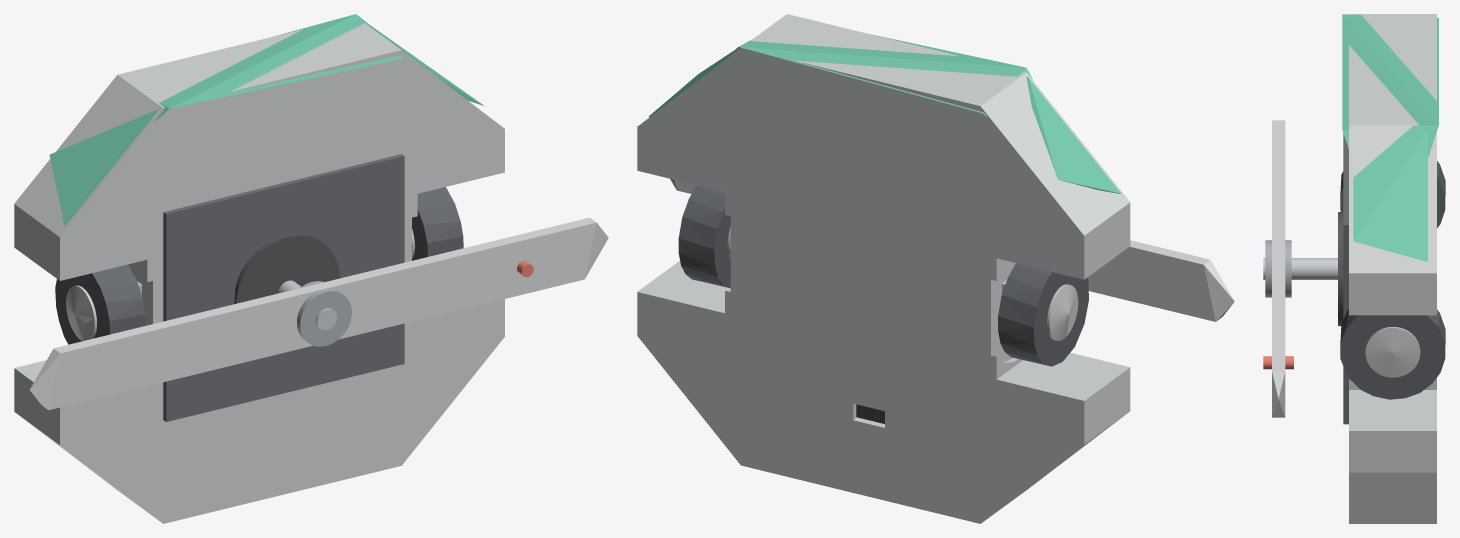
Rendered from vampire.glb.
The picture shows the model from 3 angles, left to right: view 1: azimuth 30°, elevation 25°; view 2: azimuth 150°, elevation 25°; view 3: azimuth 270°, elevation 25°; orthographic projection. The views are drawn at different scales.
Visible parts, largest first — view 1: chassis, deck, weapon, green_wall, hub, wheel_r0, wheel_l0, dt_hubw_weapon, dt_hub_wheel_r0; view 2: chassis, green_wall, weapon, wheel_r0, wheel_l0, dt_hub_wheel_r0; view 3: chassis, green_wall, wheel_l0, weapon, dt_hub_wheel_l0, deck, dt_shaft_weapon, dt_hubw_weapon, hub, wheel_r0, lock_pin.
Boxes of the visible parts, left/top/right/bottom form: chassis: left=14, top=23, right=504, bottom=523; deck: left=163, top=154, right=404, bottom=421; weapon: left=30, top=217, right=608, bottom=410; green_wall: left=49, top=14, right=484, bottom=225; hub: left=234, top=233, right=339, bottom=303; wheel_r0: left=55, top=264, right=145, bottom=344; wheel_l0: left=412, top=187, right=463, bottom=260; dt_hubw_weapon: left=297, top=281, right=351, bottom=346; dt_hub_wheel_r0: left=66, top=285, right=96, bottom=340; chassis: left=637, top=14, right=1130, bottom=523; green_wall: left=648, top=34, right=1121, bottom=193; weapon: left=670, top=179, right=1234, bottom=321; wheel_r0: left=998, top=263, right=1088, bottom=366; wheel_l0: left=678, top=185, right=730, bottom=288; dt_hub_wheel_r0: left=1047, top=284, right=1078, bottom=340; chassis: left=1349, top=14, right=1436, bottom=523; green_wall: left=1342, top=14, right=1438, bottom=261; wheel_l0: left=1340, top=308, right=1445, bottom=399; weapon: left=1272, top=120, right=1285, bottom=417; dt_hub_wheel_l0: left=1365, top=327, right=1420, bottom=377; deck: left=1343, top=134, right=1348, bottom=424; dt_shaft_weapon: left=1263, top=258, right=1337, bottom=279; dt_hubw_weapon: left=1265, top=240, right=1291, bottom=297; hub: left=1338, top=212, right=1343, bottom=326; wheel_r0: left=1340, top=161, right=1445, bottom=228; lock_pin: left=1263, top=356, right=1293, bottom=369.
Bounding box in the file's own units: 146 × 100 × 41.53.
